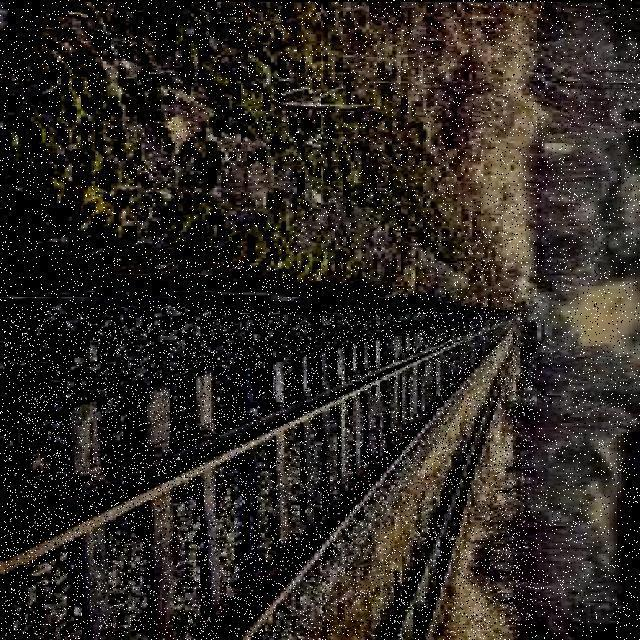rail: (5, 309, 536, 638)
